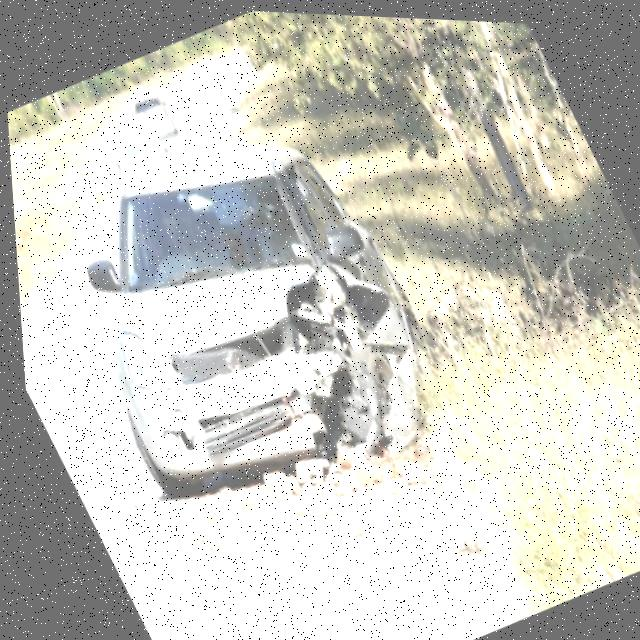license_plate: (196, 366, 247, 412)
